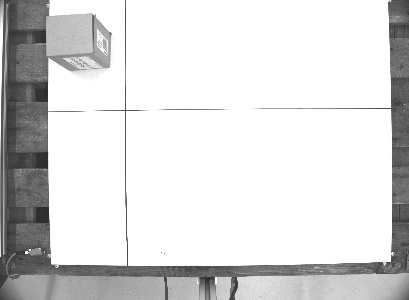b5: (42, 11, 113, 73)
